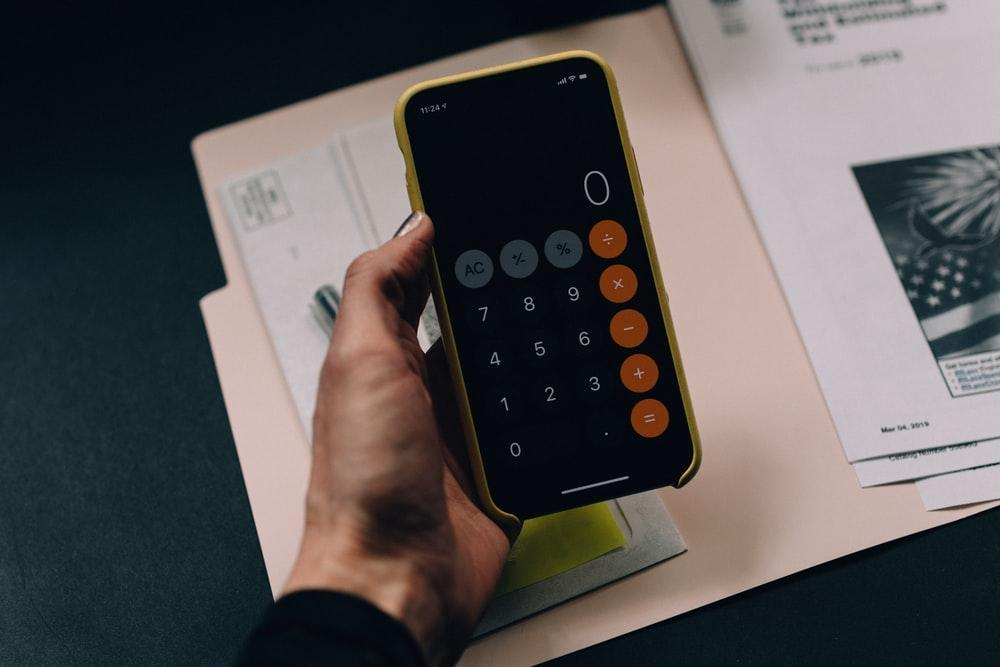Calculator: (439, 165, 682, 467)
